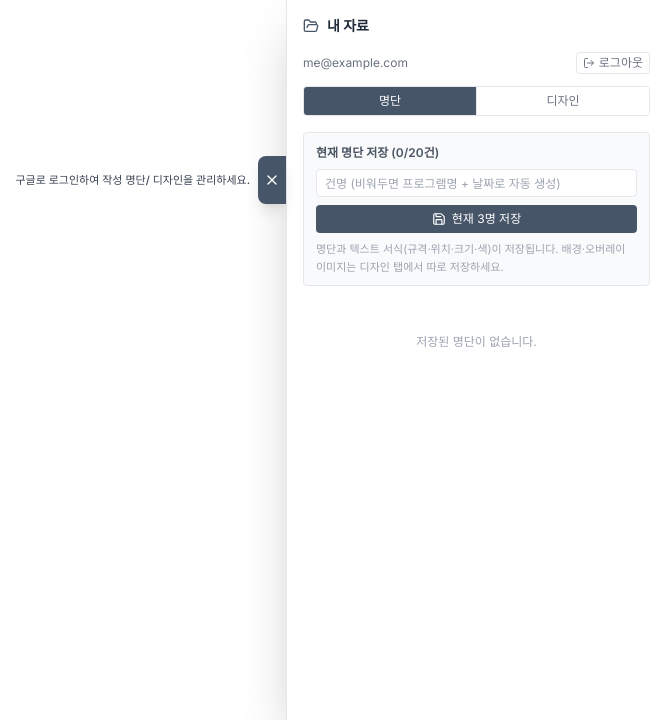
LibraryPanel › 드라이브 권한이 없으면 디자인 탭에서만 재승인 안내를 보여준다
This screenshot has width=666, height=720.
expect the text "현재 명단 저장 (0/20건)" is shown: met, box [316, 145, 439, 160]
Click the button "디자인".
click(562, 101)  # box [476, 87, 649, 115]
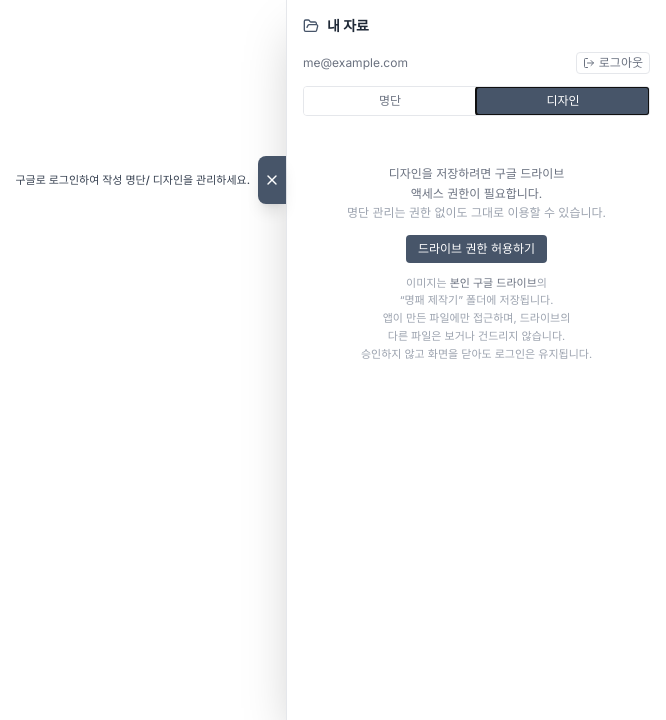
expect the button "드라이브 권한 허용하기" is shown: met, box [406, 234, 547, 262]
